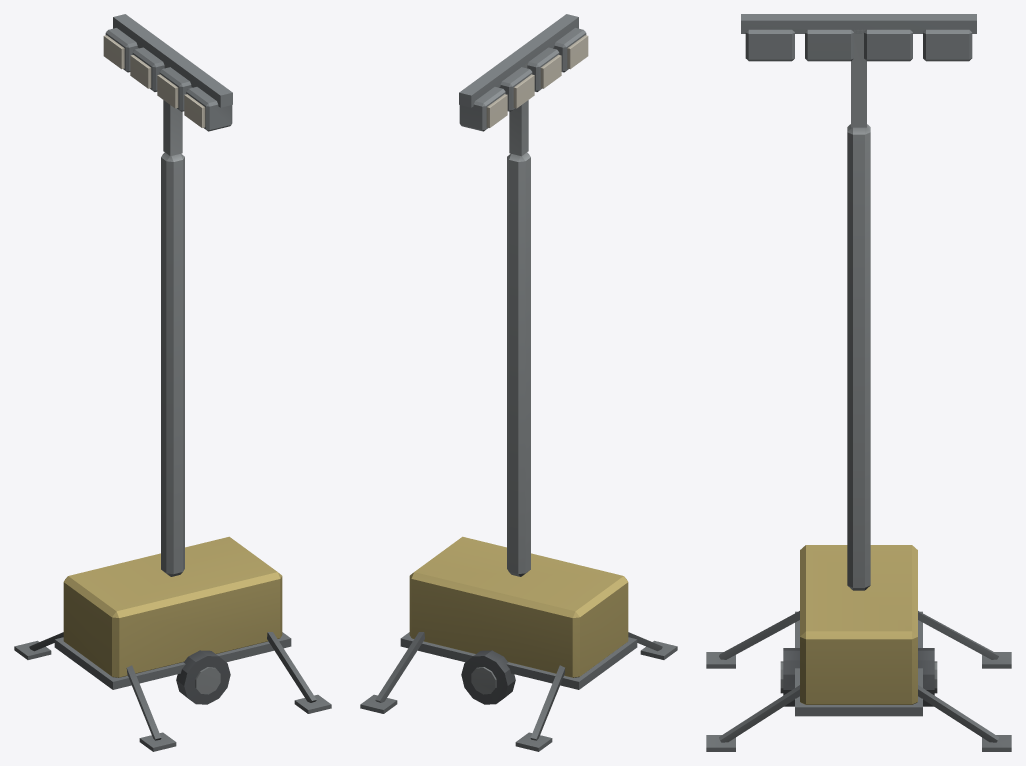
File: mil_light_tower.glb
The picture shows the model from 3 angles, left to right: view 1: azimuth 30°, elevation 25°; view 2: azimuth 150°, elevation 25°; view 3: azimuth 270°, elevation 25°; orthographic projection. The views are drawn at different scales.
Parts seen in each view (by area): view 1: mil_light_tower; view 2: mil_light_tower; view 3: mil_light_tower.
Boxes of the visible parts, <box> form: mil_light_tower: <box>14,14,331,751</box>; mil_light_tower: <box>360,14,677,751</box>; mil_light_tower: <box>706,14,1011,751</box>.
Bounding box in the file's own units: 2.3 × 7.7 × 3.1.
